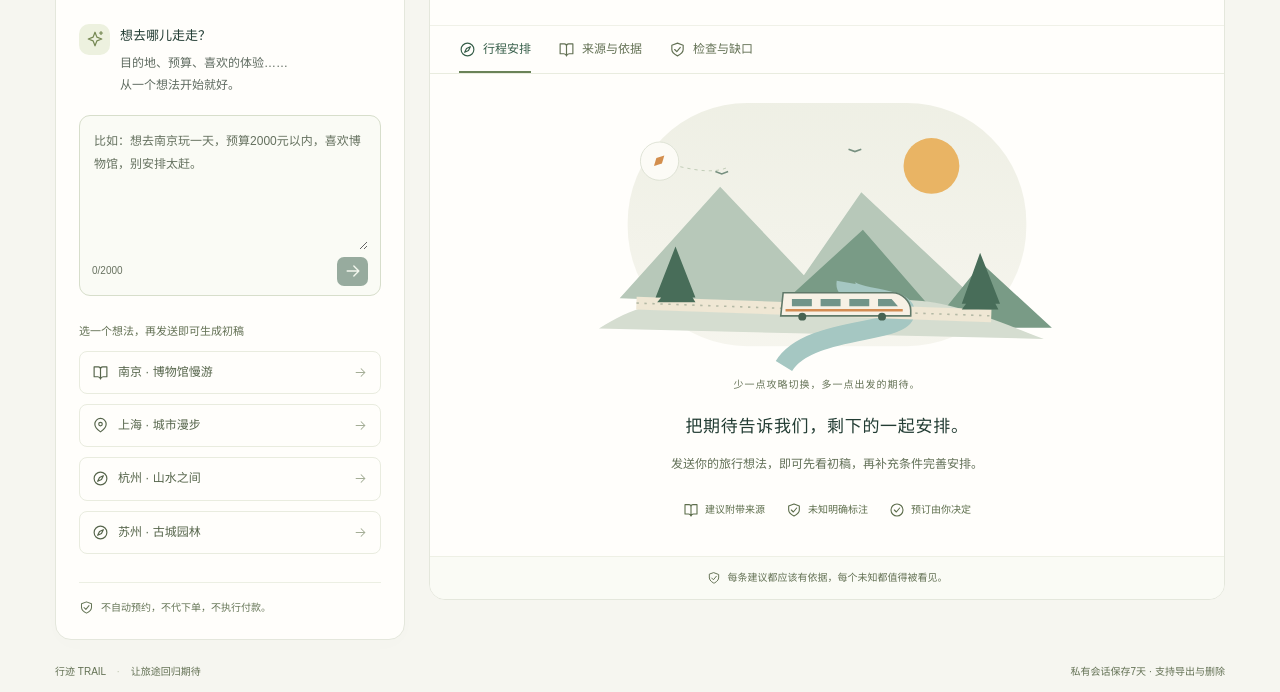
Test: sending an idea creates a first draft before condition refinement
The width and height of the screenshot is (1280, 692).
(page scrolled)
Click the button "南京 · 博物馆慢游".
click(165, 372)  # box left=79, top=351, right=381, bottom=394
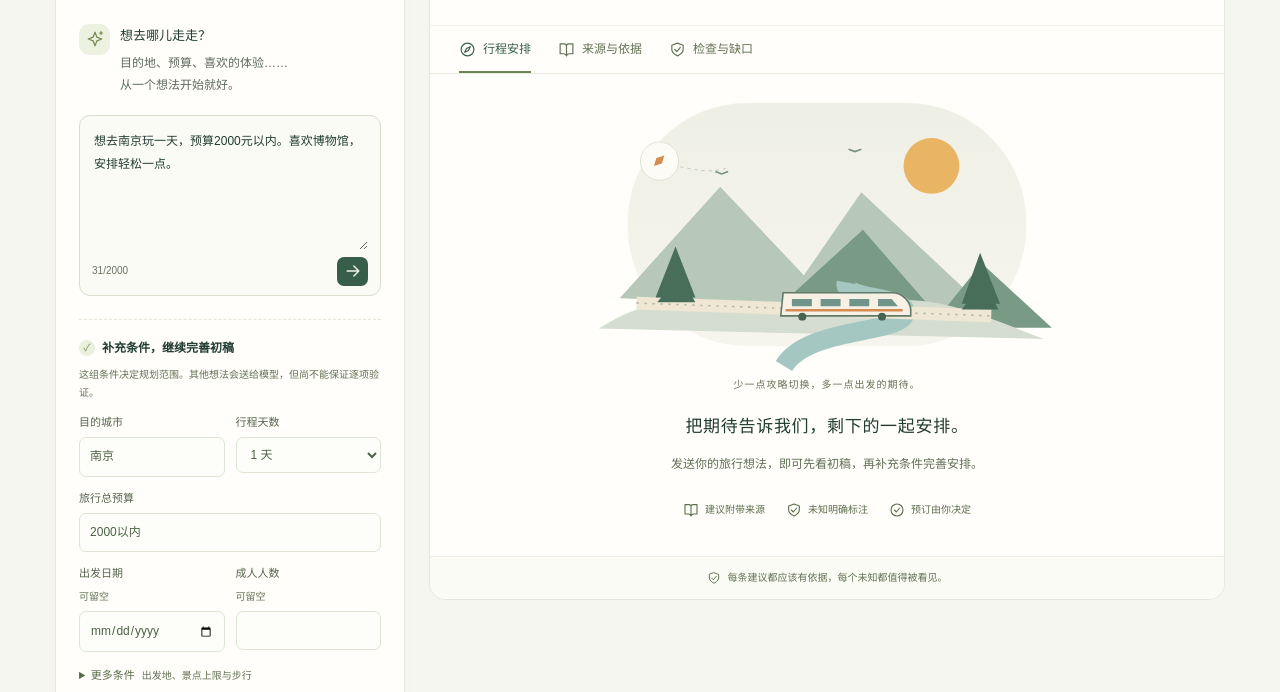
Expected: the field labelled "目的城市" holds "南京", left=79, top=437, right=224, bottom=477
Click the button named "发送旅行想法".
click(352, 271)  # box left=337, top=257, right=368, bottom=286
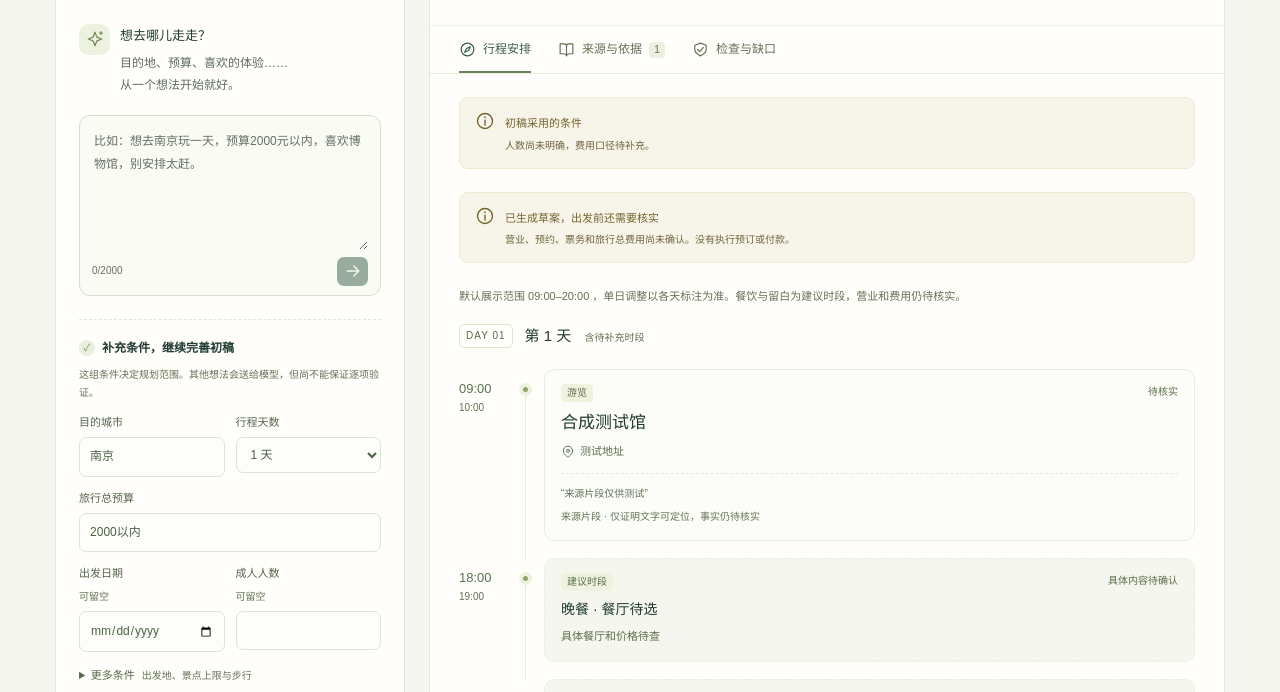
Expected: the heading "合成测试馆" is shown, left=561, top=413, right=646, bottom=432
Replace the text in the field labelled "旅行总预算" with "3000以内" at (230, 533), box left=79, top=513, right=381, bottom=552
(page scrolled)
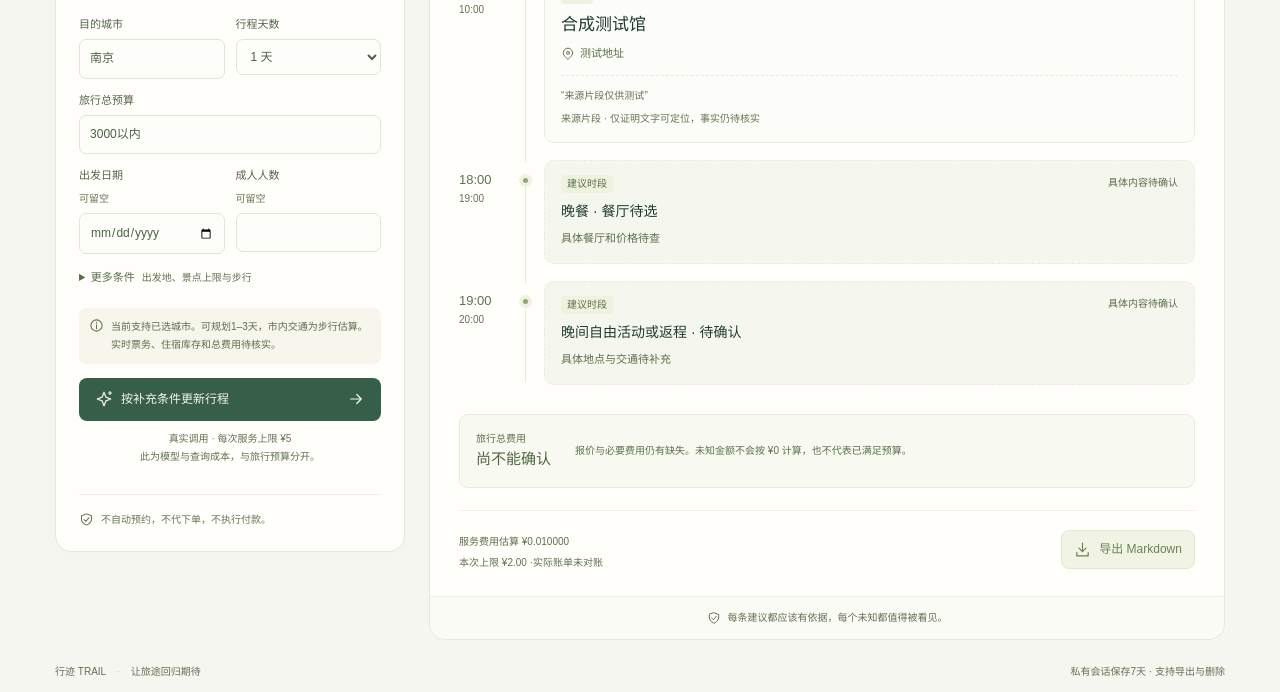
Click the button "按补充条件更新行程".
click(230, 399)  # box left=79, top=378, right=381, bottom=421
(page scrolled)
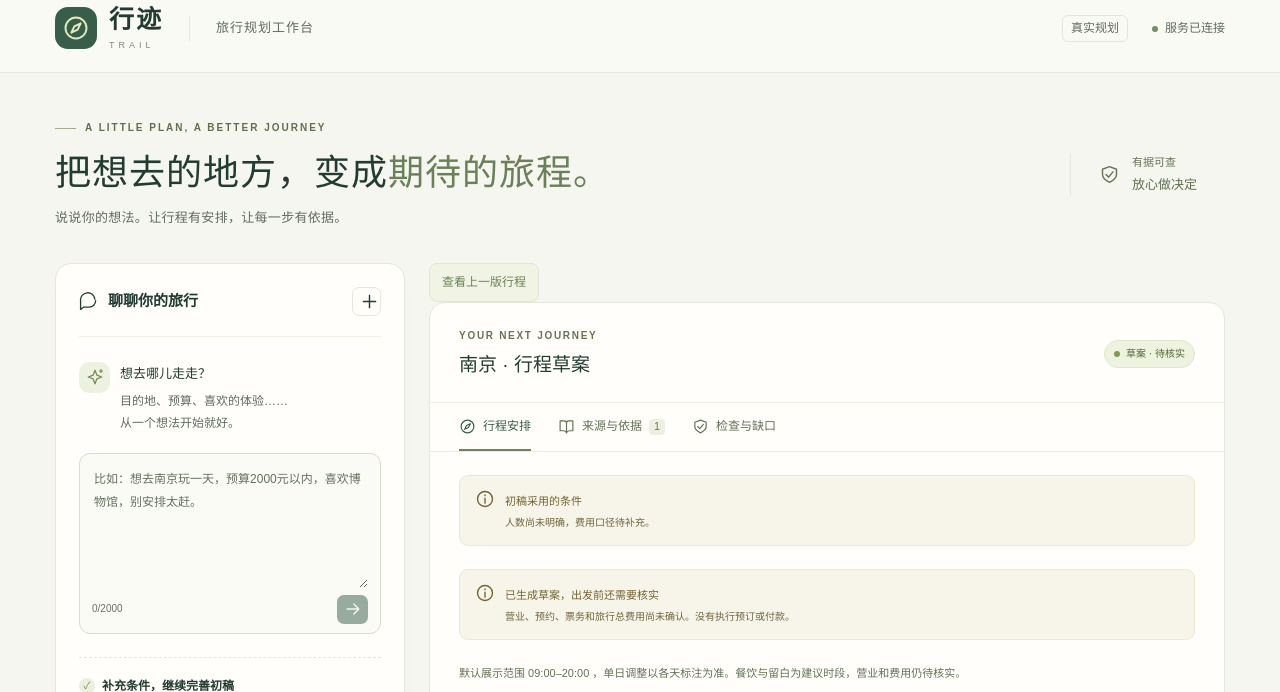
Expected: the button "查看上一版行程" is shown, left=429, top=263, right=539, bottom=302
